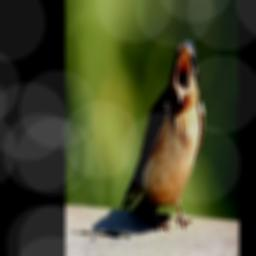Swallow: (119, 38, 205, 231)
